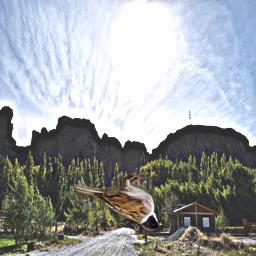Sparrow: (74, 172, 164, 233)
